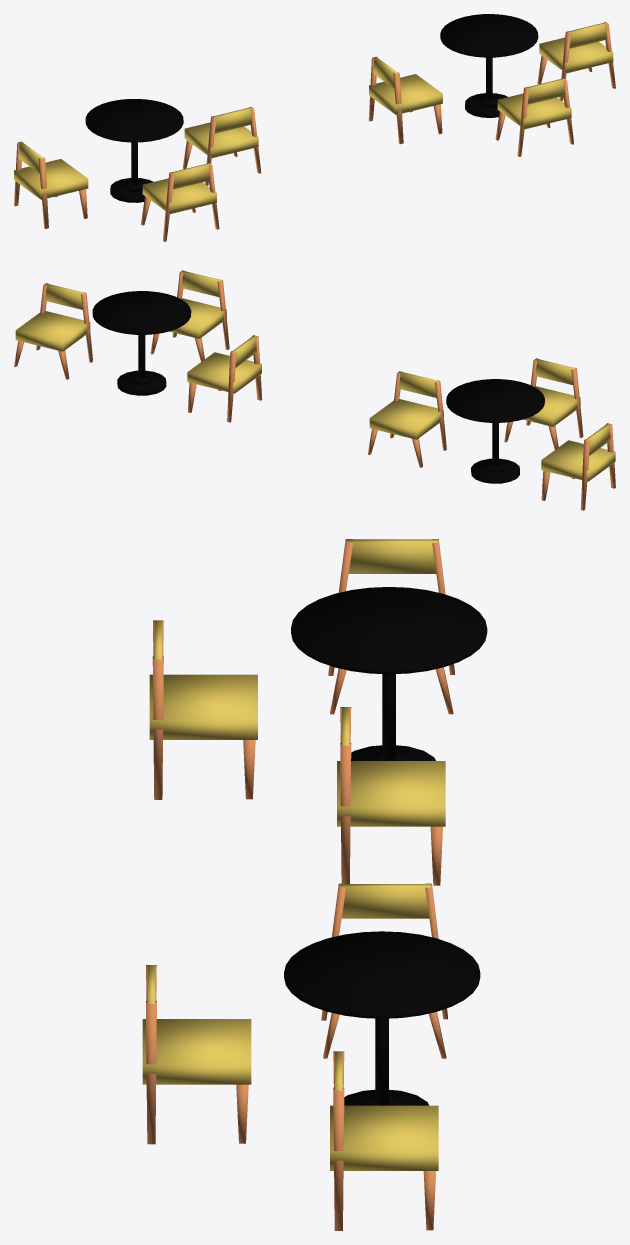
The model's file is coffee_table_set.obj.
3 views of the same model, one above another, from view 1: azimuth 30°, elevation 25°; view 2: azimuth 150°, elevation 25°; view 3: azimuth 270°, elevation 25° (orthographic). The views are drawn at different scales.
Bounding box in the file's own units: 5.7 × 0.6918 × 1.48.
